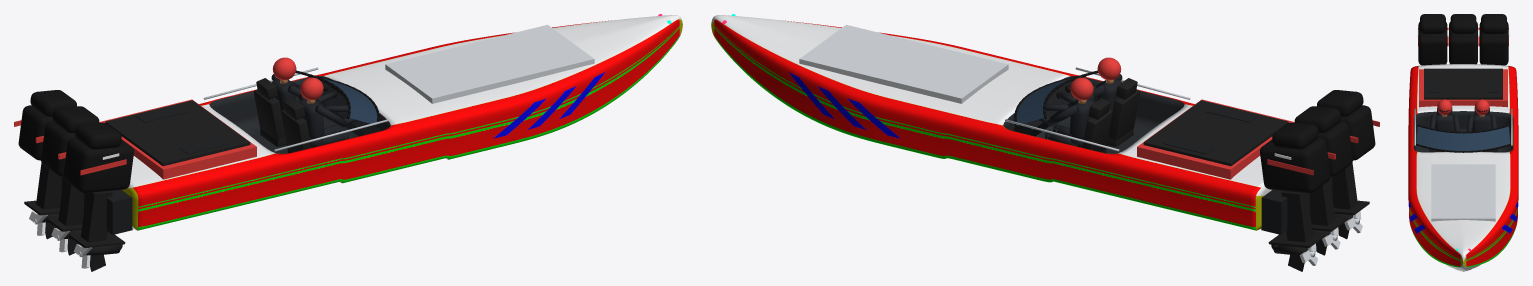
Rendered from Cigarette.glb.
3 views of the same model, side by side, from view 1: azimuth 30°, elevation 25°; view 2: azimuth 150°, elevation 25°; view 3: azimuth 270°, elevation 25° (orthographic). The views are drawn at different scales.
Visible parts, largest first — view 1: Cigarette; view 2: Cigarette; view 3: Cigarette.
Part boxes in pixels (bbox=[...]): Cigarette: bbox=[14, 14, 682, 271]; Cigarette: bbox=[711, 14, 1379, 271]; Cigarette: bbox=[1408, 14, 1518, 271].
Size of the model in its own units: 10.18 by 2.19 by 2.24.
26 materials, 1 textured.
